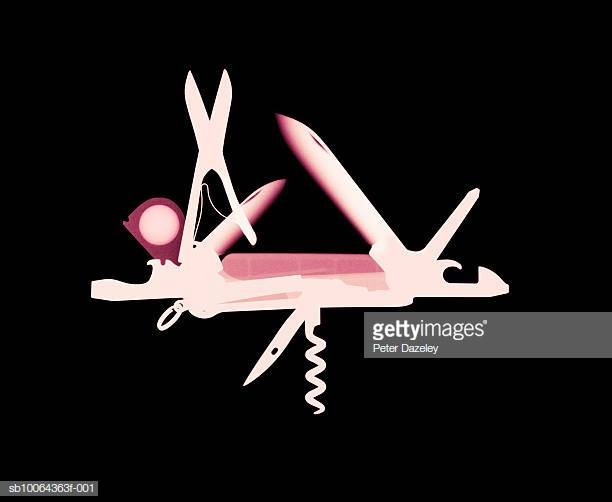knife: (78, 66, 533, 310)
